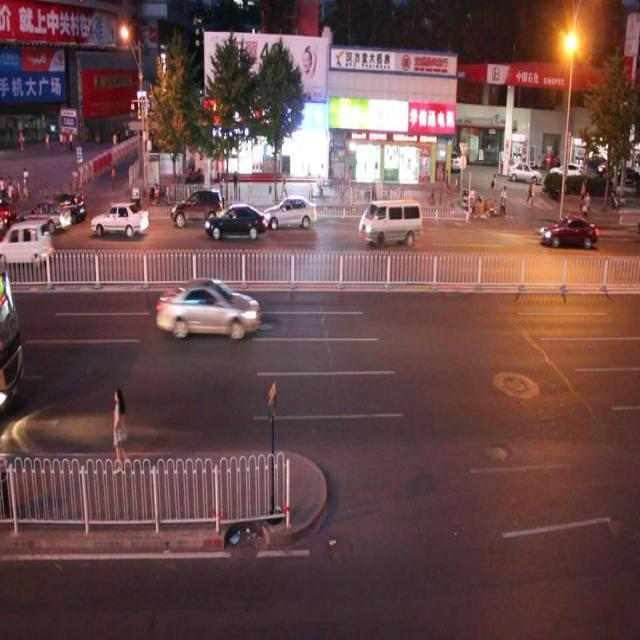car: (154, 273, 260, 341), (204, 202, 268, 242), (1, 220, 56, 264), (89, 200, 149, 239), (538, 212, 598, 250), (171, 184, 224, 227), (16, 198, 73, 236), (264, 194, 317, 230), (47, 189, 88, 222)
truck: (358, 196, 423, 246)
